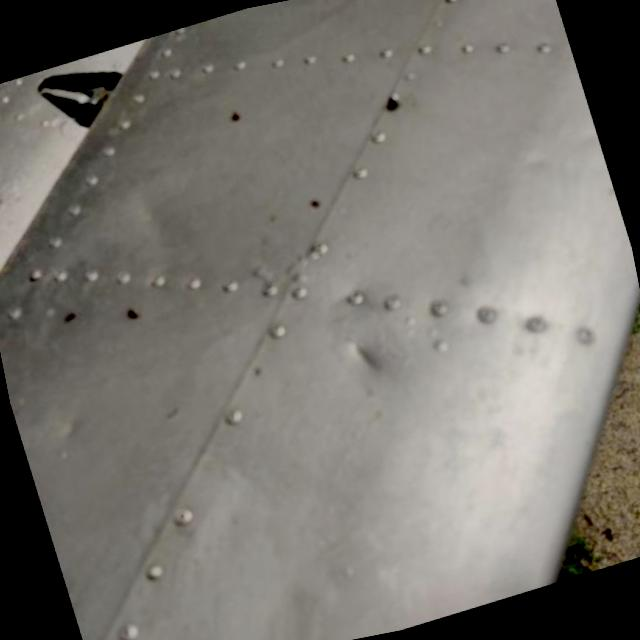dent: (334, 310, 408, 404)
